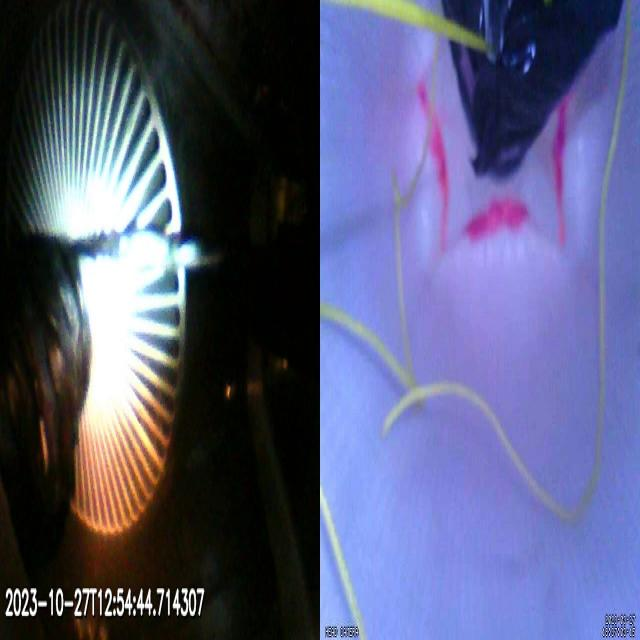red-circle: (417, 75, 571, 246)
